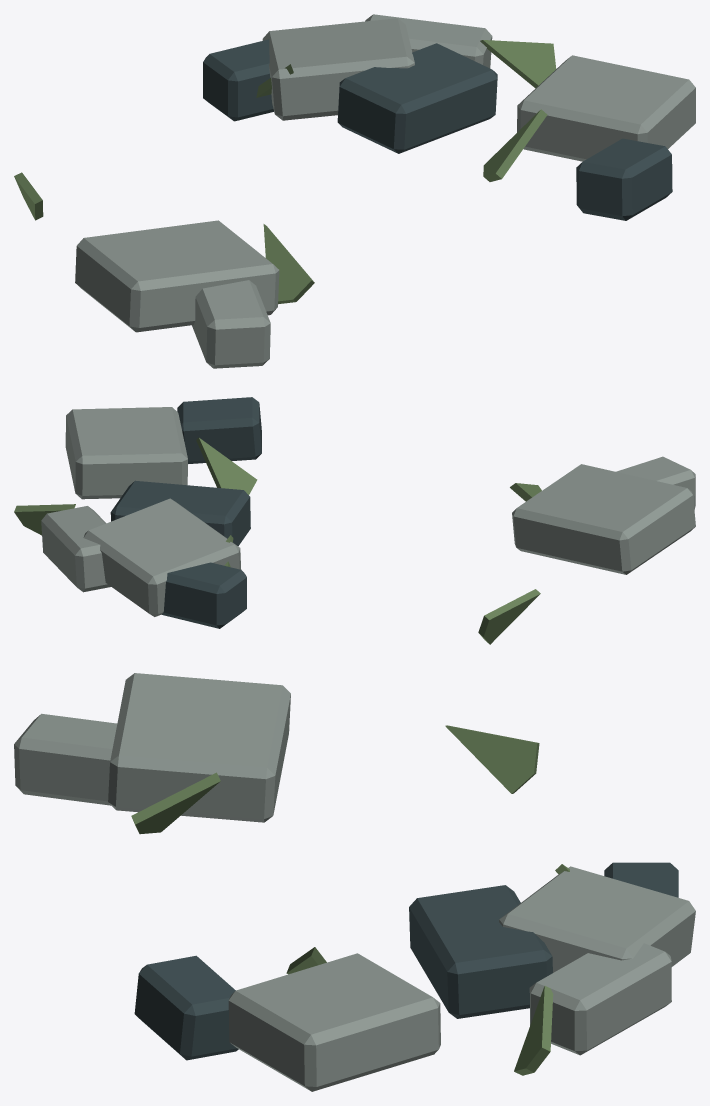
File: scattered_debris.glb
The picture shows the model from 3 angles, top to bottom: view 1: azimuth 30°, elevation 25°; view 2: azimuth 150°, elevation 25°; view 3: azimuth 270°, elevation 25°; orthographic projection. The views are drawn at different scales.
Visible parts, largest first — view 1: scattered_debris_Surface; view 2: scattered_debris_Surface; view 3: scattered_debris_Surface.
Part boxes in pixels (left/top/right/bottom): scattered_debris_Surface: left=14, top=14, right=695, bottom=368; scattered_debris_Surface: left=14, top=397, right=695, bottom=644; scattered_debris_Surface: left=14, top=673, right=695, bottom=1091.
Size of the model in its own units: 1.49 by 0.1685 by 1.19.
Materials: 1 (1 with a texture image).
